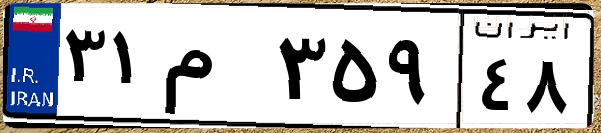1: (110, 28, 158, 98)
3: (270, 28, 330, 110), (57, 26, 110, 100)
4: (475, 38, 525, 113)
5: (330, 28, 385, 110)
8: (525, 38, 570, 115)
9: (385, 28, 445, 110)
م: (158, 20, 270, 120)
